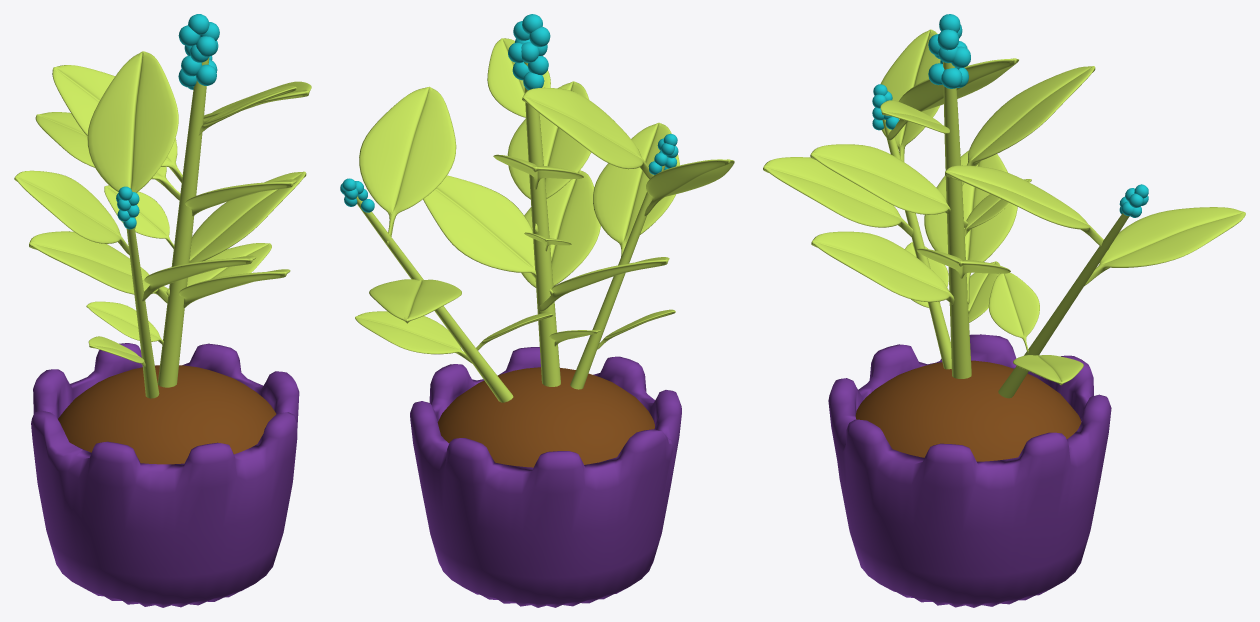
Rendered from Verano 3.fbx.
3 views of the same model, side by side, from view 1: azimuth 30°, elevation 25°; view 2: azimuth 150°, elevation 25°; view 3: azimuth 270°, elevation 25° (orthographic). The views are drawn at different scales.
Parts seen in each view (by area): view 1: Circle.026, Sphere.013, Plane.052, NurbsPath.037, Plane.048, Plane.045, Plane.043, Plane.044, Plane.050, NurbsPath.038, Plane.055, Plane.049 (+7 smaller); view 2: Circle.026, Sphere.013, Plane.053, Plane.045, Plane.052, Plane.049, NurbsPath.037, Plane.047, Plane.046, Plane.051, Plane.050, NurbsPath.039 (+5 smaller); view 3: Circle.026, Sphere.013, Plane.050, Plane.047, Plane.046, NurbsPath.037, Plane.049, Plane.044, Plane.043, Plane.053, Plane.048, Plane.057 (+8 smaller).
Boxes of the visible parts, box(x1,y1,x2,y2) form: Circle.026: box(31, 343, 299, 607); Sphere.013: box(58, 365, 276, 464); Plane.052: box(87, 51, 178, 228); NurbsPath.037: box(157, 57, 209, 387); Plane.048: box(14, 170, 129, 254); Plane.045: box(166, 171, 306, 295); Plane.043: box(29, 231, 168, 302); Plane.044: box(52, 65, 182, 182); Plane.050: box(35, 112, 180, 200); NurbsPath.038: box(126, 228, 159, 398); Plane.055: box(104, 185, 174, 248); Plane.049: box(142, 255, 256, 301); Circle.026: box(410, 347, 681, 607); Sphere.013: box(437, 367, 654, 467); Plane.053: box(359, 86, 456, 245); Plane.045: box(423, 175, 553, 294); Plane.052: box(522, 87, 653, 179); Plane.049: box(593, 122, 679, 256); NurbsPath.037: box(524, 62, 560, 386); Plane.047: box(521, 170, 600, 320); Plane.046: box(507, 81, 591, 232); Plane.051: box(355, 311, 472, 363); Plane.050: box(369, 279, 461, 323); NurbsPath.039: box(356, 196, 513, 402); Circle.026: box(828, 334, 1111, 607); Sphere.013: box(855, 360, 1081, 461); Plane.050: box(1084, 207, 1245, 285); Plane.047: box(811, 231, 969, 313); Plane.046: box(810, 144, 968, 227); NurbsPath.037: box(943, 62, 971, 378); Plane.049: box(763, 157, 913, 236); Plane.044: box(962, 66, 1095, 185); Plane.043: box(924, 150, 1017, 304); Plane.053: box(945, 165, 1109, 249); Plane.048: box(880, 29, 940, 161); Plane.057: box(988, 272, 1039, 352).
Size of the model in its own units: 47.69 by 78.95 by 60.28.
